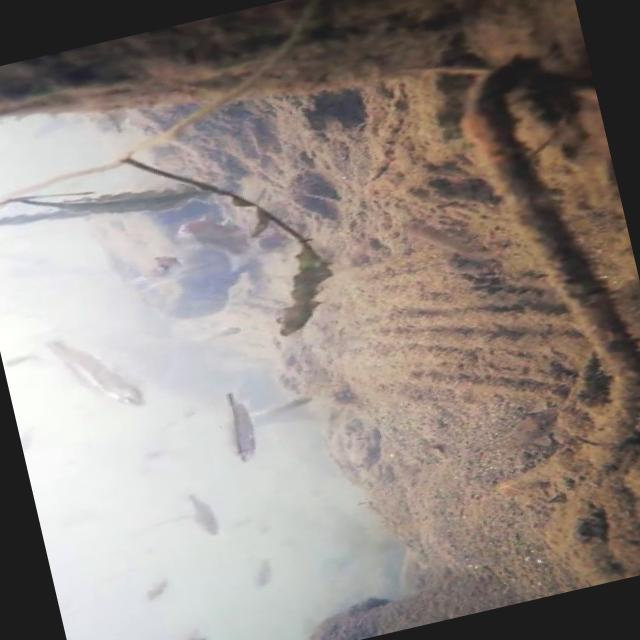Cakil Baligi: (40, 326, 144, 422), (202, 386, 268, 469), (177, 488, 225, 542), (246, 389, 314, 423), (246, 556, 278, 590)
